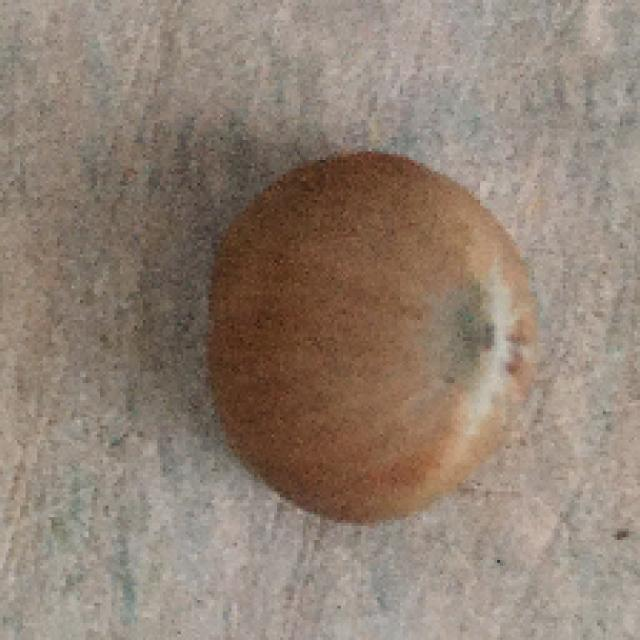DamagedHazelnut: (203, 152, 544, 526)
